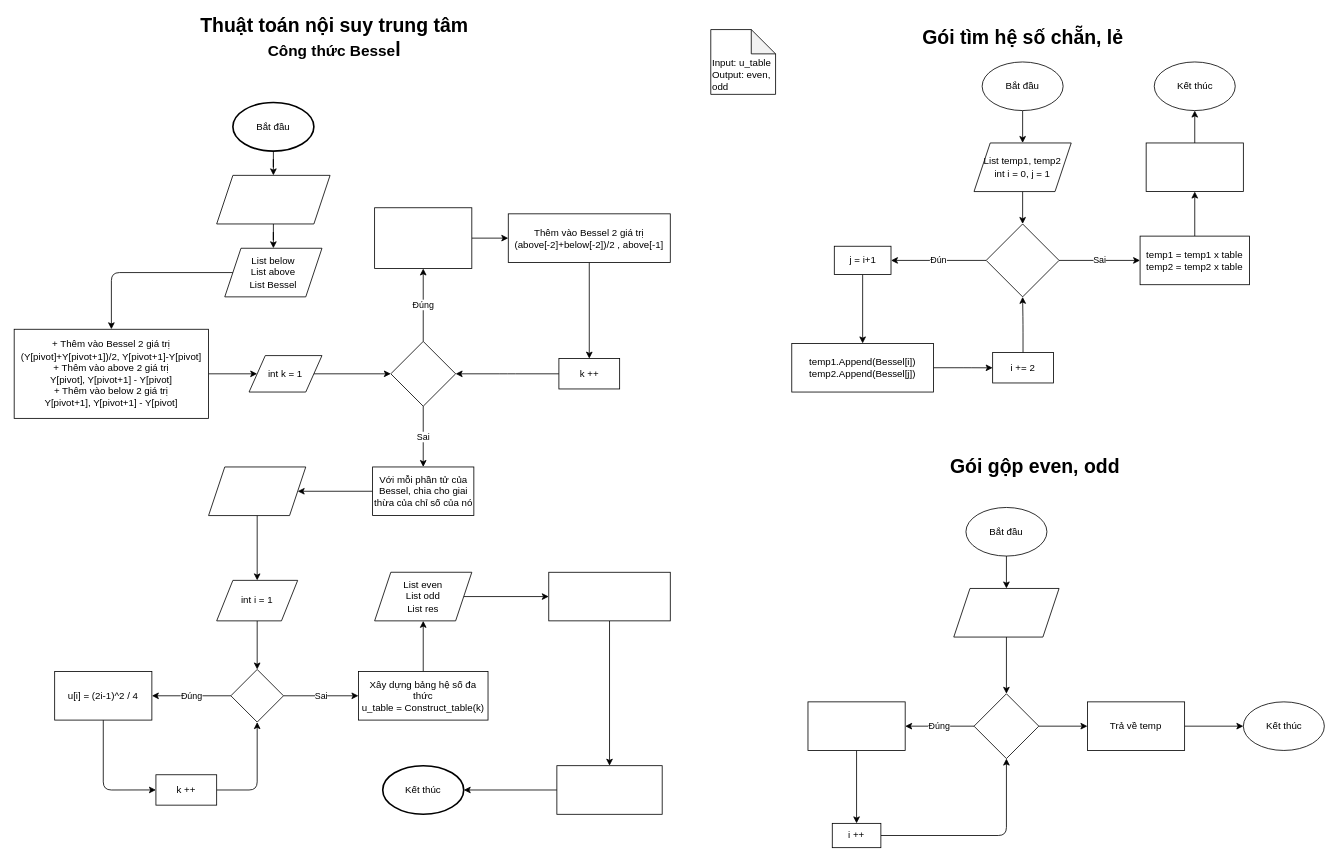
Image size: 1339x862. Some labels were removed from this diagram. The centre of each missing label's shape, as x and y in pixels:
"+ below = add_below(pivot+k+1) + above = add_above(pivot-k)" belongs at point (423, 238).
"even = Find_even(u_table) odd = Find_odd(u_table)" belongs at point (609, 596).
"i < k" belongs at point (257, 695).
"i < len(Bessel)" belongs at point (1022, 260).
"i < n" belongs at point (1006, 726).
"k <= Min(pivot, n-pivot-1)" belongs at point (423, 373).
"List temp int n = len(even//odd) int i = 0" belongs at point (1006, 612).
"List u cỡ k, 2D array u_table cỡ kxk" belongs at point (257, 491).
"List X: mốc nội suy List Y: gtri nội suy" belongs at point (273, 199).
"res = Merge(even, odd)" belongs at point (609, 789).
"temp.Appen(odd[i]) temp.Appen(even[i])" belongs at point (856, 725).
"Trả về temp1, temp2 (chẵn, lẻ)" belongs at point (1194, 167).
